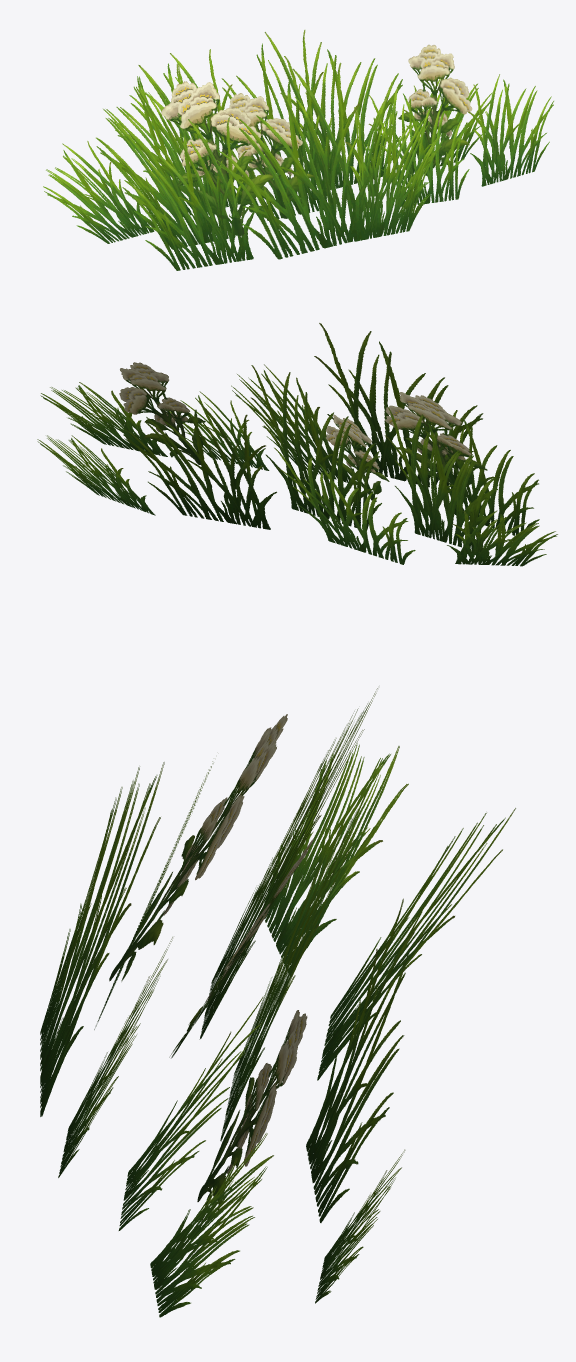
The model's file is 2_Plant_Cao_02.FBX.
3 views of the same model, one above another, from view 1: azimuth 30°, elevation 25°; view 2: azimuth 150°, elevation 25°; view 3: azimuth 270°, elevation 25° (orthographic). The views are drawn at different scales.
Parts seen in each view (by area): view 1: 2_Plant_Cao_02; view 2: 2_Plant_Cao_02; view 3: 2_Plant_Cao_02.
Part boxes in pixels (box(x1,y1,x2,y2)): 2_Plant_Cao_02: box(43, 30, 553, 270); 2_Plant_Cao_02: box(37, 323, 557, 566); 2_Plant_Cao_02: box(40, 688, 515, 1317).
Size of the model in its own units: 337 by 114 by 142.
